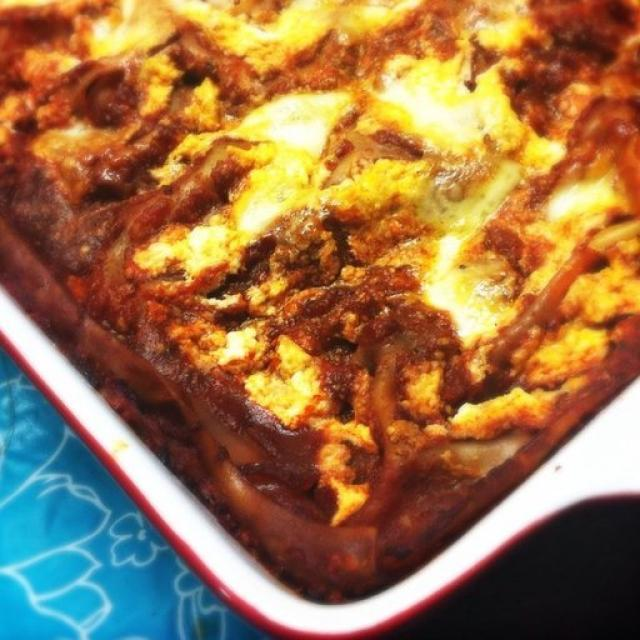Lasagna: (5, 2, 640, 580)
